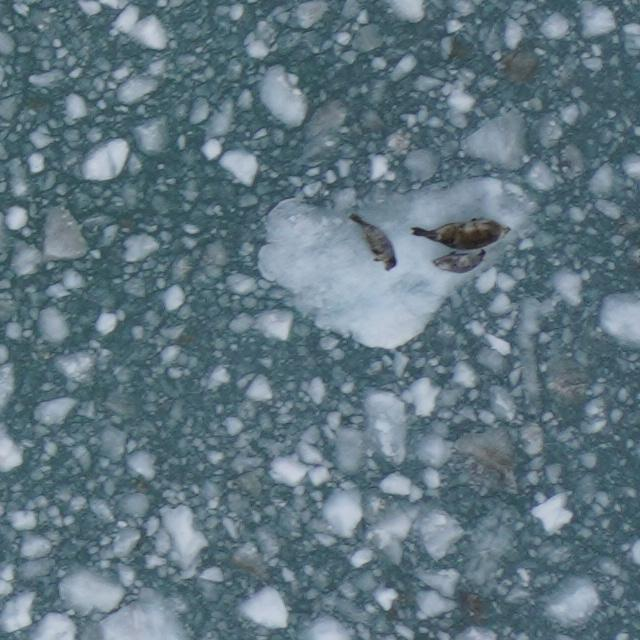seal: (407, 214, 515, 255), (346, 210, 401, 274), (427, 245, 491, 277)
